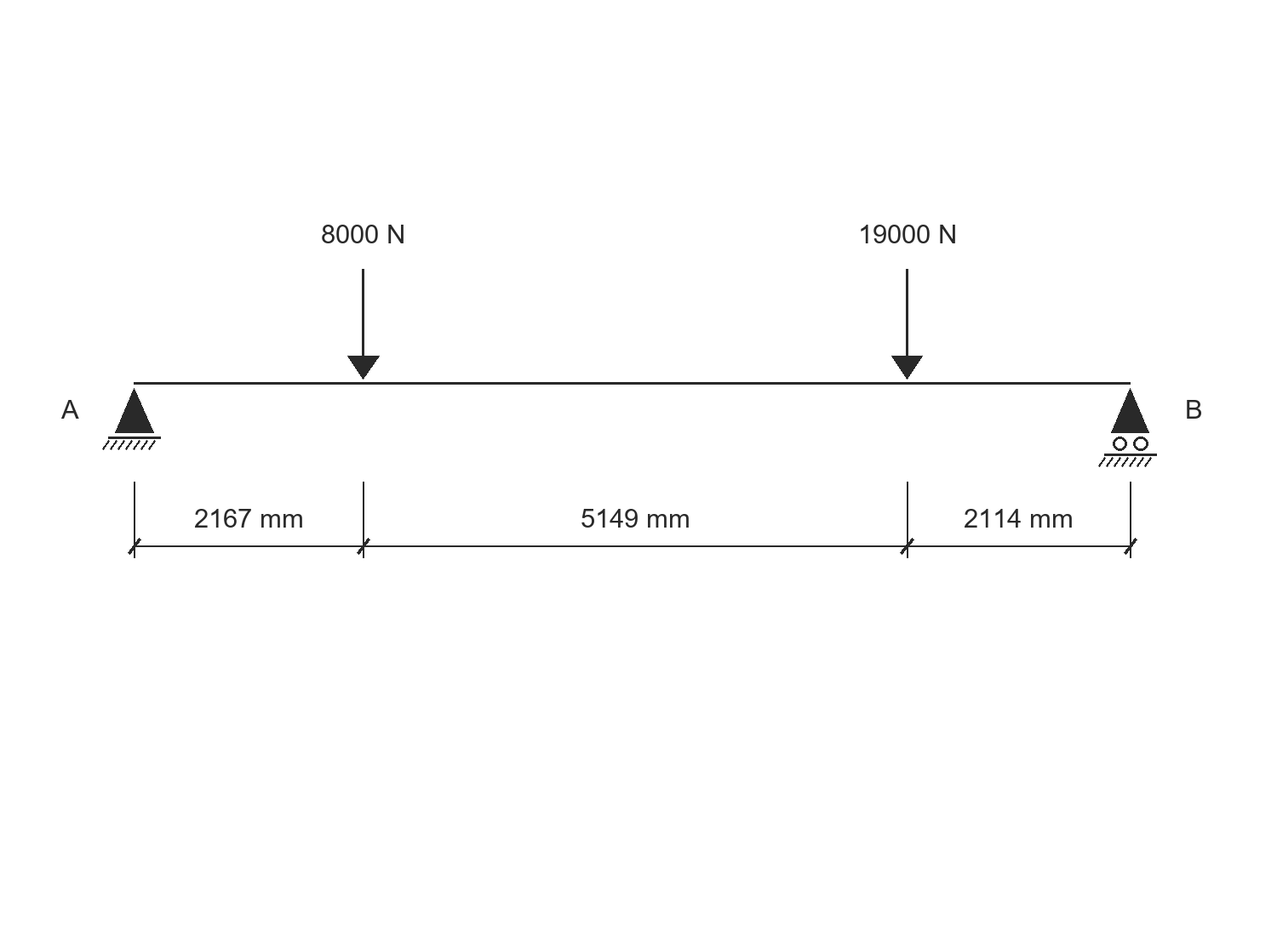pin_support: (102, 388, 161, 450)
point_load: (347, 269, 380, 380), (891, 269, 923, 380)
roller_support: (1098, 388, 1157, 467)
